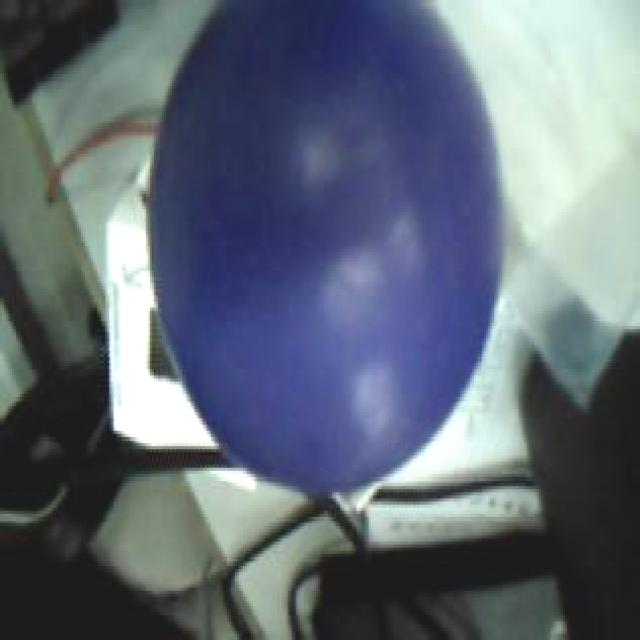BallPurple: (148, 0, 503, 493)
